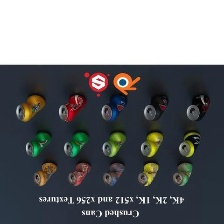can: (51, 89, 89, 125), (12, 89, 49, 124), (139, 89, 171, 126), (181, 91, 214, 124), (97, 90, 128, 124), (175, 128, 207, 159), (29, 159, 63, 188), (22, 127, 53, 158), (60, 128, 91, 159), (98, 129, 130, 159), (136, 128, 165, 158), (134, 160, 163, 188), (66, 159, 93, 189), (99, 159, 126, 187), (170, 161, 194, 189)
